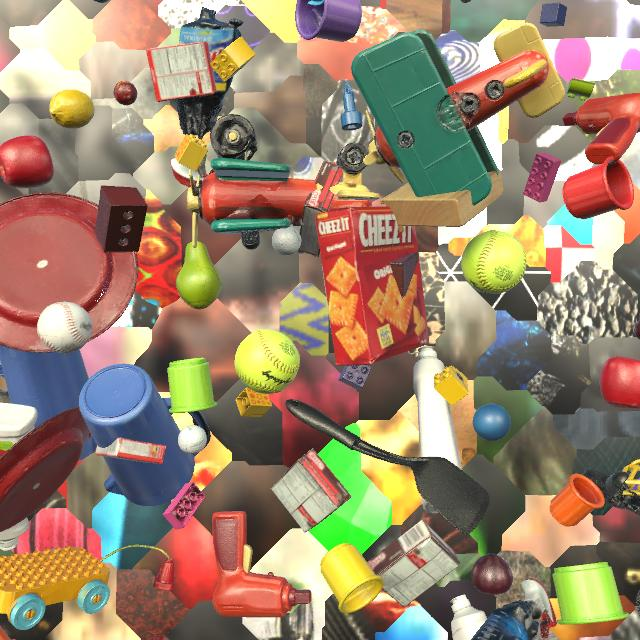ycb_003_cracker_box: (315, 206, 429, 366)
ycb_008_pudding_box: (367, 520, 460, 608), (270, 448, 352, 533), (298, 160, 343, 257)
ycb_009_gelatin_box: (146, 41, 217, 102), (95, 437, 166, 464)
ycb_013_apple: (0, 135, 54, 188), (600, 356, 640, 409)
ycb_014_lemon: (50, 89, 94, 129)
ycb_016_pear: (176, 241, 222, 309)
ycb_018_plum: (472, 553, 513, 595), (634, 314, 640, 340)
